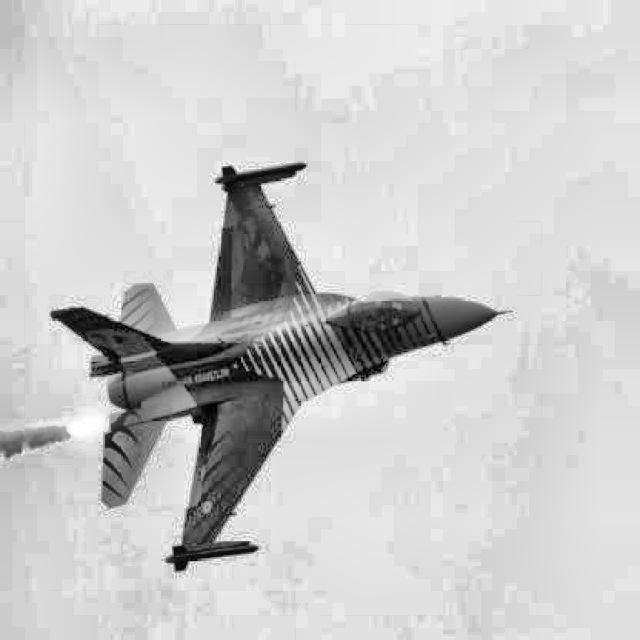F16: (50, 163, 513, 572)
